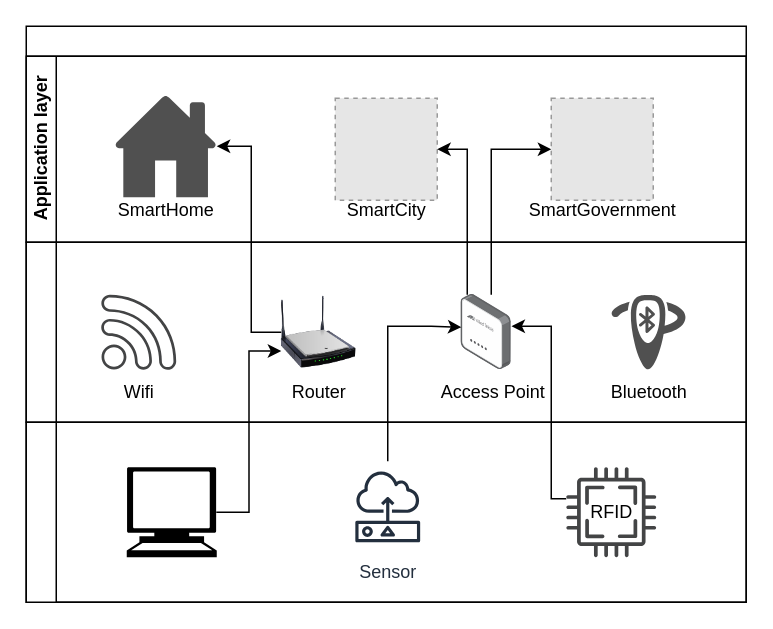
This 773x629 diagram has some shape labels left out. Grey dashed boxes stand in for pictures. Here are the shapes that lost their labels. From the top down, the box of each, then its label:
(25, 241, 746, 422): Network layer
(25, 421, 746, 602): Perception layer
